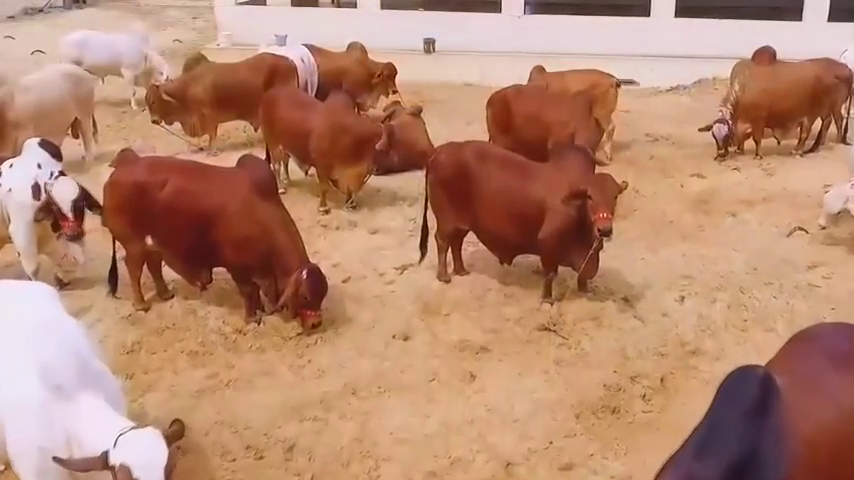bo: (94, 142, 343, 343), (7, 272, 206, 474), (411, 136, 627, 317), (634, 312, 854, 480), (251, 83, 388, 227), (143, 46, 308, 164), (701, 42, 848, 163), (1, 135, 100, 289), (517, 48, 639, 166), (478, 78, 604, 168), (54, 18, 173, 112), (5, 60, 103, 168), (364, 93, 444, 174), (307, 35, 403, 102), (263, 18, 323, 100), (809, 168, 854, 251)
